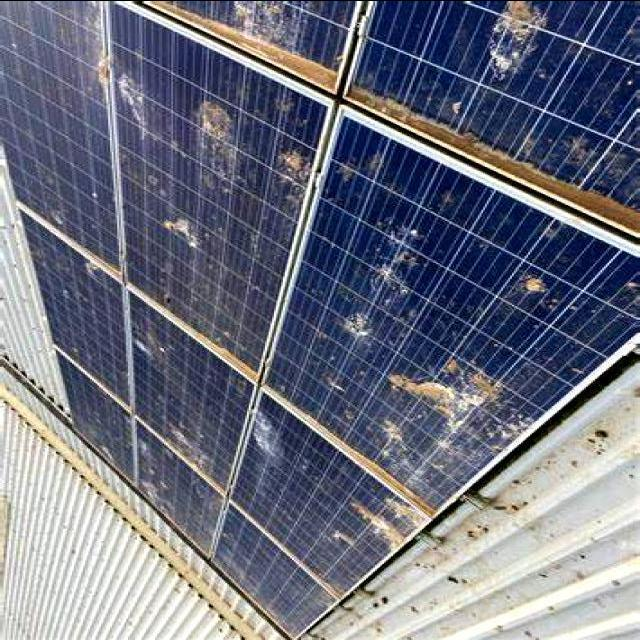soiled: (2, 7, 640, 636)
